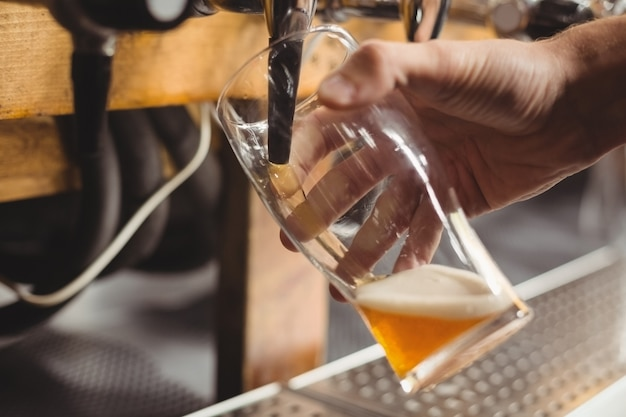alcohol: (215, 21, 535, 394)
